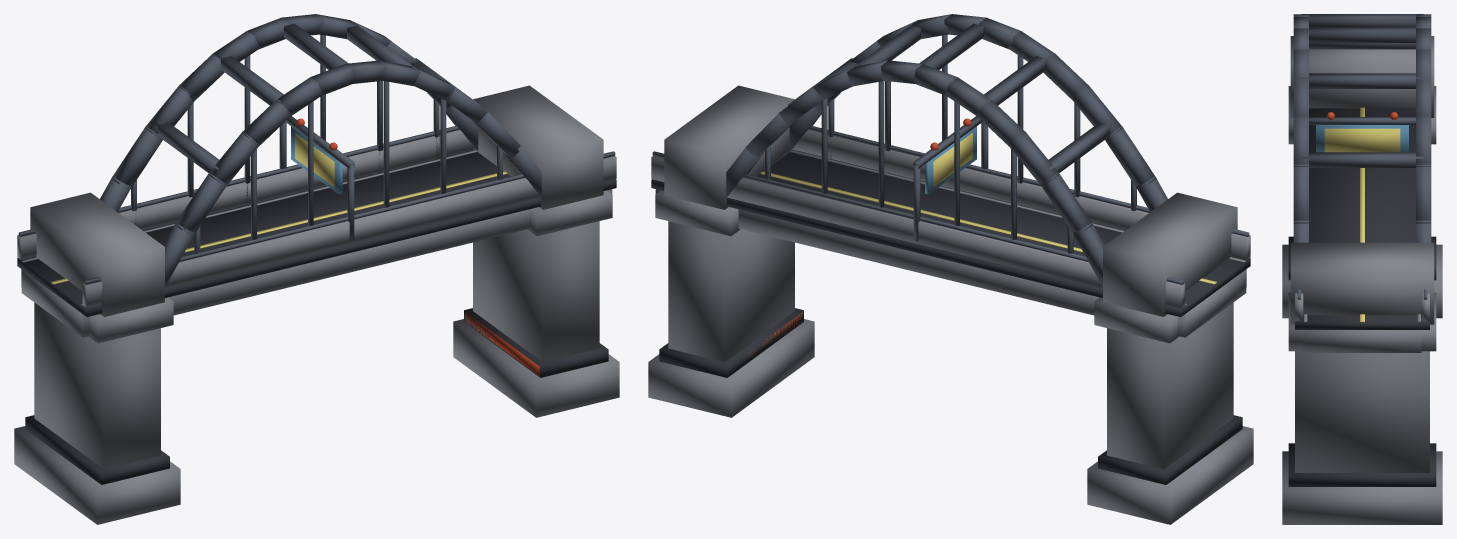
File: overpass_arch.glb
3 views of the same model, side by side, from view 1: azimuth 30°, elevation 25°; view 2: azimuth 150°, elevation 25°; view 3: azimuth 270°, elevation 25° (orthographic). The views are drawn at different scales.
Visible parts, largest first — view 1: overpass_arch; view 2: overpass_arch; view 3: overpass_arch.
Part boxes in pixels (x1,y1,x2,y2): overpass_arch: [14, 14, 619, 524]; overpass_arch: [648, 14, 1253, 524]; overpass_arch: [1282, 14, 1442, 524].
Size of the model in its own units: 14 by 9.78 by 3.8.
